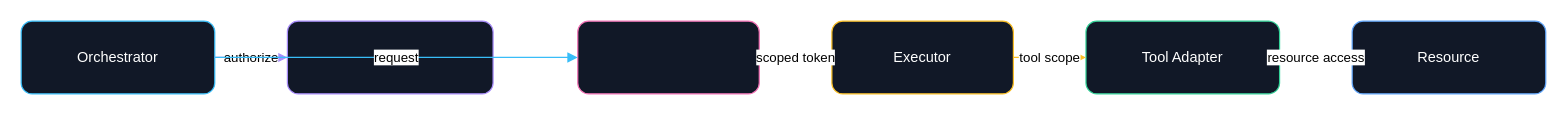
This 1567x115 diagram has some shape labels left out. Here are the shapes that lost their labels. From the top down, the box of each, then its label:
(286, 20, 493, 94): Policy Decision
(577, 20, 759, 94): Gateway
